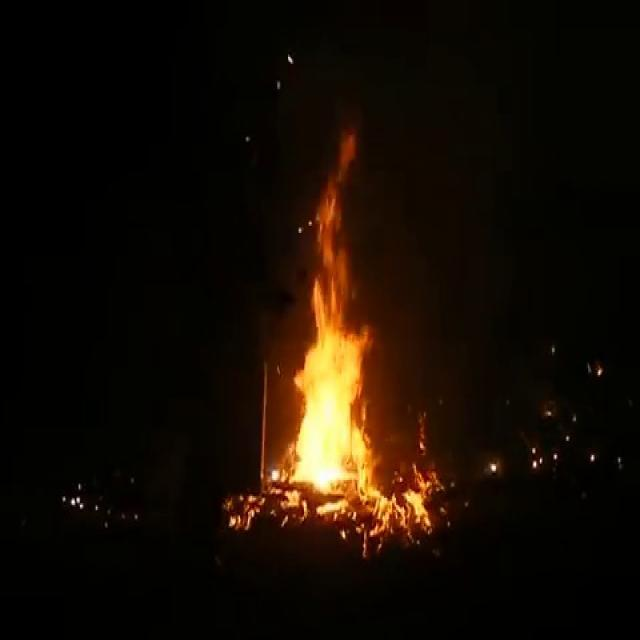Fire: (272, 120, 430, 518), (222, 472, 292, 534)
